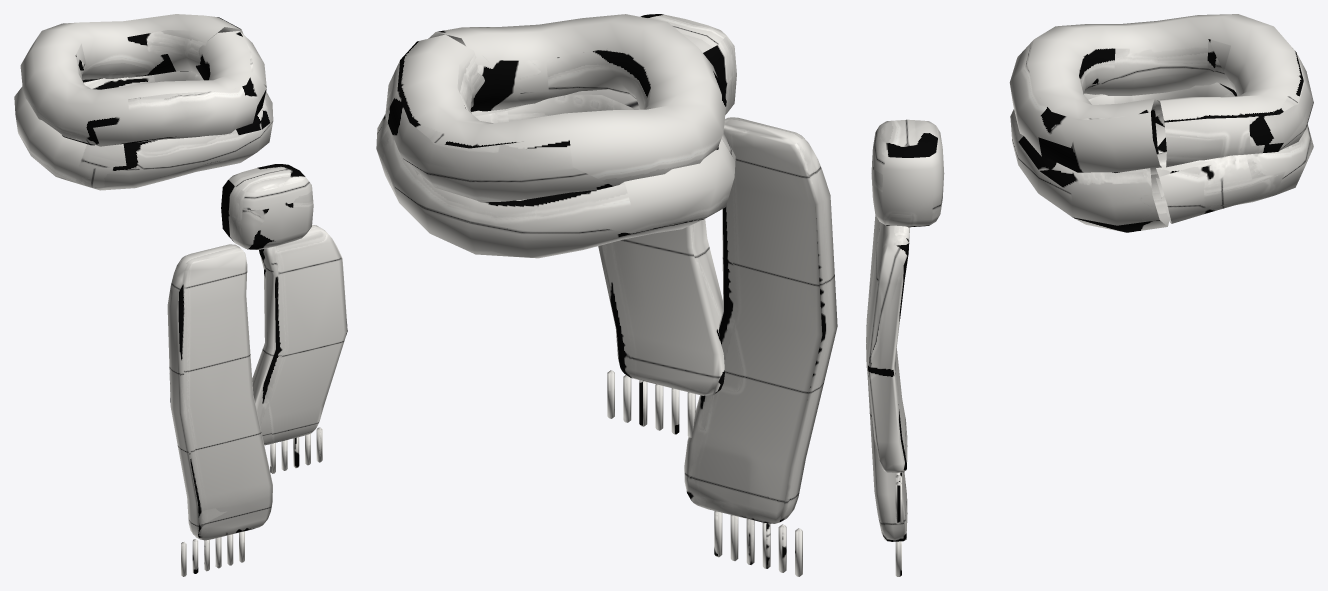
Rendered from Albatros_Bufanda.fbx.
The picture shows the model from 3 angles, left to right: view 1: azimuth 30°, elevation 25°; view 2: azimuth 150°, elevation 25°; view 3: azimuth 270°, elevation 25°; orthographic projection. The views are drawn at different scales.
Visible parts, largest first — view 1: Albatros_Bufanda; view 2: Albatros_Bufanda; view 3: Albatros_Bufanda.
Part boxes in pixels (box(x1,y1,x2,y2)): Albatros_Bufanda: box(14, 14, 347, 576); Albatros_Bufanda: box(376, 14, 837, 576); Albatros_Bufanda: box(866, 14, 1313, 576).
Bounding box in the file's own units: 1.27 × 2.3 × 1.76.
